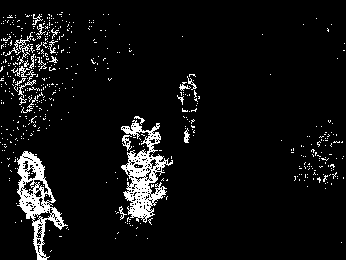person: (17, 150, 64, 260), (179, 71, 199, 144)
